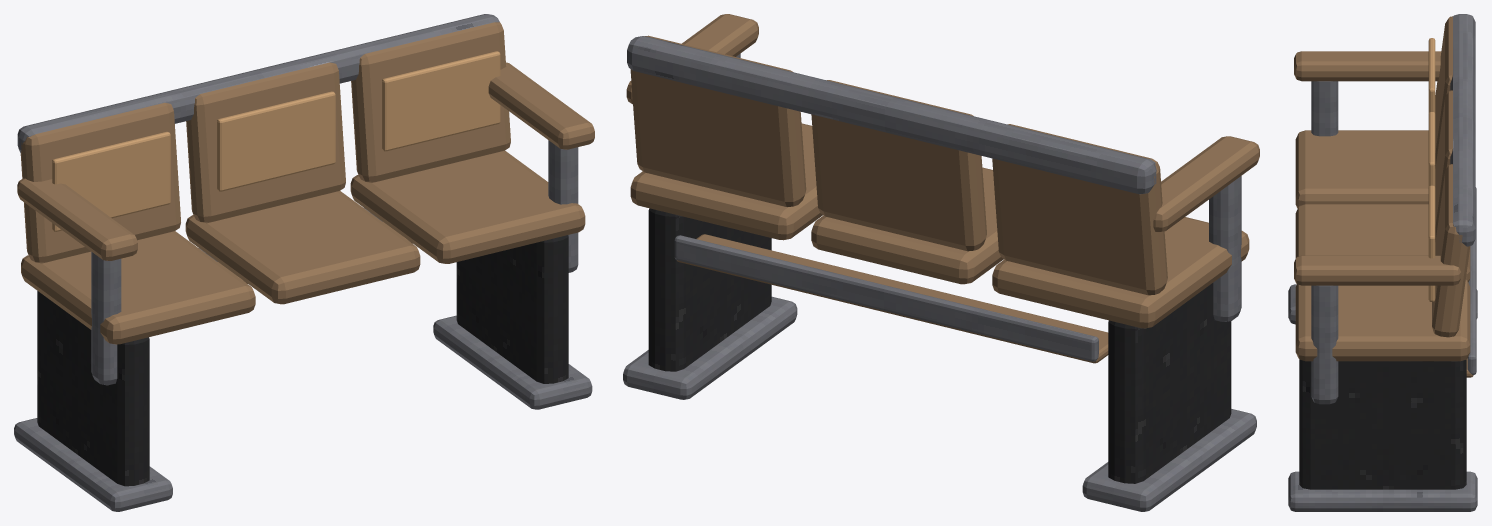
The model's file is decor_chapel_pew.glb.
The picture shows the model from 3 angles, left to right: view 1: azimuth 30°, elevation 25°; view 2: azimuth 150°, elevation 25°; view 3: azimuth 270°, elevation 25°; orthographic projection. The views are drawn at different scales.
Parts seen in each view (by area): view 1: DECOR_CHAPEL_PEW__Seat_Slat_2, DECOR_CHAPEL_PEW__Seat_Slat_3, DECOR_CHAPEL_PEW__Leg_L, DECOR_CHAPEL_PEW__Seat_Slat_1, DECOR_CHAPEL_PEW__Leg_R, DECOR_CHAPEL_PEW__Back_Slat_2, DECOR_CHAPEL_PEW__Back_Slat_3, DECOR_CHAPEL_PEW__Back_Slat_1, DECOR_CHAPEL_PEW__Back_Inset_1, DECOR_CHAPEL_PEW__Back_Inset_2, DECOR_CHAPEL_PEW__Back_Inset_0, DECOR_CHAPEL_PEW__Rear_Rail (+6 smaller); view 2: DECOR_CHAPEL_PEW__Rear_Rail, DECOR_CHAPEL_PEW__Leg_L, DECOR_CHAPEL_PEW__Back_Slat_1, DECOR_CHAPEL_PEW__Back_Slat_3, DECOR_CHAPEL_PEW__Back_Slat_2, DECOR_CHAPEL_PEW__Leg_R, DECOR_CHAPEL_PEW__Hymn_Lip, DECOR_CHAPEL_PEW__Seat_Slat_1, DECOR_CHAPEL_PEW__Seat_Slat_2, DECOR_CHAPEL_PEW__Seat_Slat_3, DECOR_CHAPEL_PEW__Foot_L, DECOR_CHAPEL_PEW__Foot_R (+4 smaller); view 3: DECOR_CHAPEL_PEW__Leg_R, DECOR_CHAPEL_PEW__Seat_Slat_3, DECOR_CHAPEL_PEW__Seat_Slat_1, DECOR_CHAPEL_PEW__Seat_Slat_2, DECOR_CHAPEL_PEW__Rear_Rail, DECOR_CHAPEL_PEW__Arm_Rest_1, DECOR_CHAPEL_PEW__Foot_R, DECOR_CHAPEL_PEW__Arm_Rest_0, DECOR_CHAPEL_PEW__Back_Slat_3, DECOR_CHAPEL_PEW__Arm_Post_1, DECOR_CHAPEL_PEW__Arm_Post_0, DECOR_CHAPEL_PEW__Back_Slat_2 (+6 smaller).
Part boxes in pixels (box(x1,y1,x2,y2)): DECOR_CHAPEL_PEW__Seat_Slat_2: box(185, 191, 420, 304); DECOR_CHAPEL_PEW__Seat_Slat_3: box(350, 150, 585, 263); DECOR_CHAPEL_PEW__Leg_L: box(37, 291, 149, 486); DECOR_CHAPEL_PEW__Seat_Slat_1: box(21, 231, 255, 344); DECOR_CHAPEL_PEW__Leg_R: box(456, 235, 568, 383); DECOR_CHAPEL_PEW__Back_Slat_2: box(186, 62, 345, 223); DECOR_CHAPEL_PEW__Back_Slat_3: box(351, 22, 510, 182); DECOR_CHAPEL_PEW__Back_Slat_1: box(20, 102, 180, 263); DECOR_CHAPEL_PEW__Back_Inset_1: box(217, 91, 335, 191); DECOR_CHAPEL_PEW__Back_Inset_2: box(382, 51, 500, 151); DECOR_CHAPEL_PEW__Back_Inset_0: box(52, 131, 170, 231); DECOR_CHAPEL_PEW__Rear_Rail: box(17, 14, 499, 152); DECOR_CHAPEL_PEW__Rear_Rail: box(627, 36, 1156, 194); DECOR_CHAPEL_PEW__Leg_L: box(1108, 283, 1231, 483); DECOR_CHAPEL_PEW__Back_Slat_1: box(992, 124, 1167, 295); DECOR_CHAPEL_PEW__Back_Slat_3: box(630, 35, 806, 206); DECOR_CHAPEL_PEW__Back_Slat_2: box(811, 80, 986, 251); DECOR_CHAPEL_PEW__Leg_R: box(648, 208, 771, 371); DECOR_CHAPEL_PEW__Hymn_Lip: box(674, 235, 1098, 361); DECOR_CHAPEL_PEW__Seat_Slat_1: box(992, 217, 1249, 328); DECOR_CHAPEL_PEW__Seat_Slat_2: box(811, 167, 1003, 284); DECOR_CHAPEL_PEW__Seat_Slat_3: box(630, 123, 822, 240); DECOR_CHAPEL_PEW__Foot_L: box(1082, 409, 1256, 511); DECOR_CHAPEL_PEW__Foot_R: box(623, 296, 797, 399); DECOR_CHAPEL_PEW__Leg_R: box(1299, 359, 1466, 489); DECOR_CHAPEL_PEW__Seat_Slat_3: box(1295, 279, 1470, 361); DECOR_CHAPEL_PEW__Seat_Slat_1: box(1295, 130, 1428, 208); DECOR_CHAPEL_PEW__Seat_Slat_2: box(1295, 204, 1470, 282); DECOR_CHAPEL_PEW__Rear_Rail: box(1450, 14, 1475, 246); DECOR_CHAPEL_PEW__Arm_Rest_1: box(1294, 255, 1461, 285); DECOR_CHAPEL_PEW__Foot_R: box(1288, 471, 1477, 511); DECOR_CHAPEL_PEW__Arm_Rest_0: box(1294, 51, 1441, 81); DECOR_CHAPEL_PEW__Back_Slat_3: box(1432, 164, 1470, 337); DECOR_CHAPEL_PEW__Arm_Post_1: box(1311, 285, 1338, 404); DECOR_CHAPEL_PEW__Arm_Post_0: box(1311, 81, 1338, 136); DECOR_CHAPEL_PEW__Back_Slat_2: box(1435, 90, 1452, 241).
Size of the model in its own units: 1.44 by 0.88 by 0.52.
4 materials, 2 textured.
